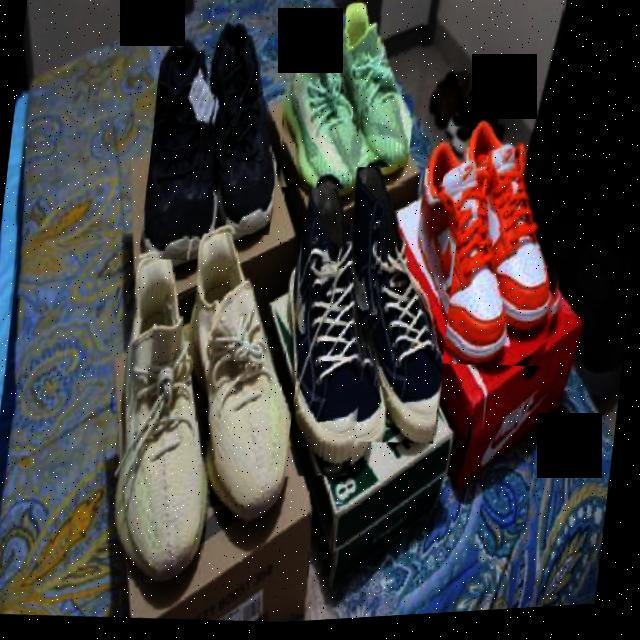shoe: (404, 116, 585, 380), (98, 253, 233, 597), (171, 242, 313, 532), (333, 180, 464, 454), (270, 198, 388, 487), (196, 36, 292, 241), (139, 44, 225, 265), (323, 7, 425, 178), (274, 40, 370, 197)
